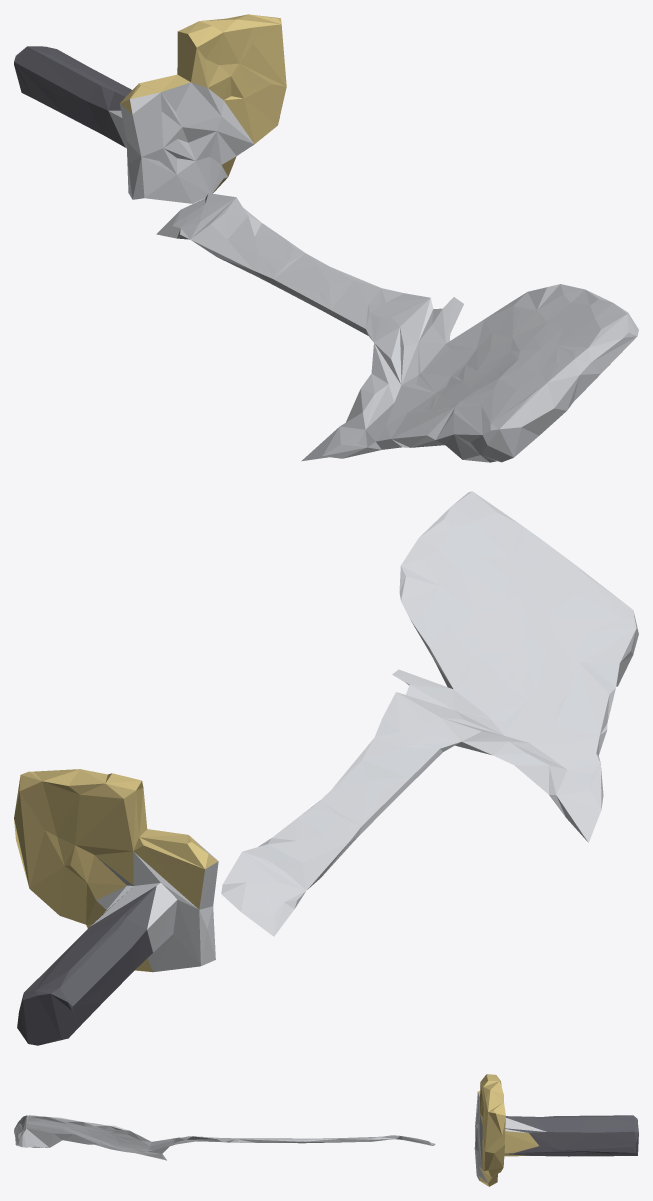
File: katana.glb
3 views of the same model, one above another, from view 1: azimuth 30°, elevation 25°; view 2: azimuth 150°, elevation 25°; view 3: azimuth 270°, elevation 25° (orthographic). The views are drawn at different scales.
Visible parts, largest first — view 1: katana; view 2: katana; view 3: katana.
Part boxes in pixels (x1,y1,x2,y2): katana: [14, 14, 638, 462]; katana: [14, 491, 638, 1045]; katana: [14, 1074, 638, 1186].
Bounding box in the file's own units: 0.2853 × 0.2329 × 1.01.
